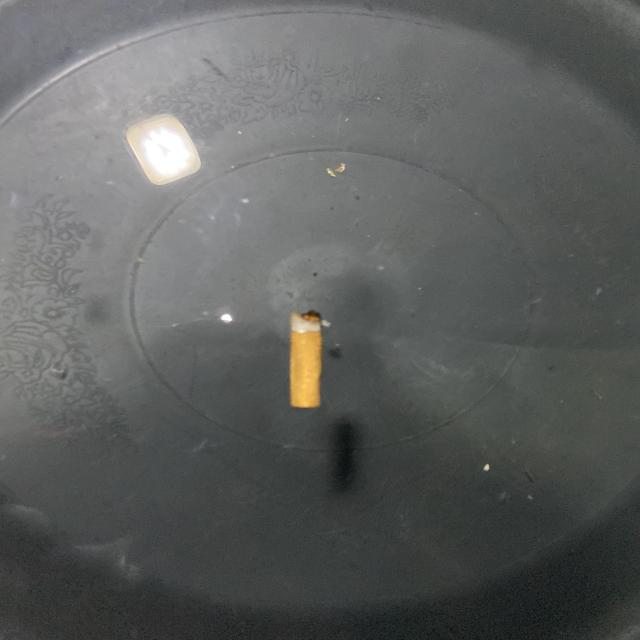Cigarette Filter: (290, 311, 328, 408)
